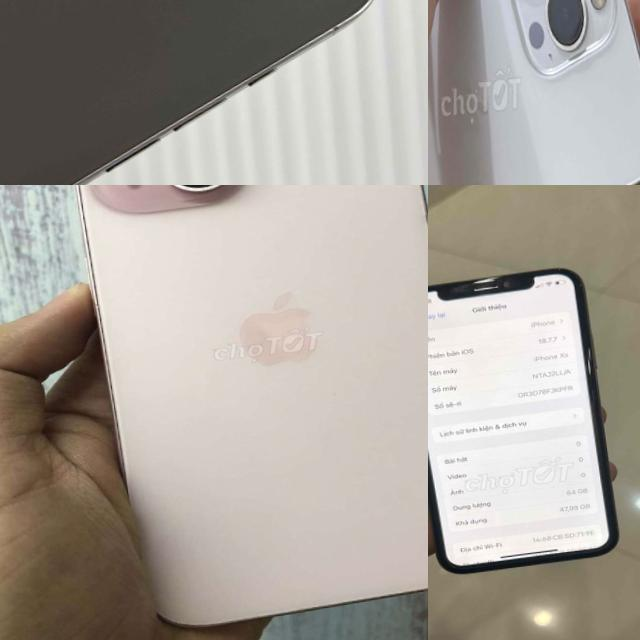scratch: (556, 258, 590, 292), (421, 210, 428, 222)
